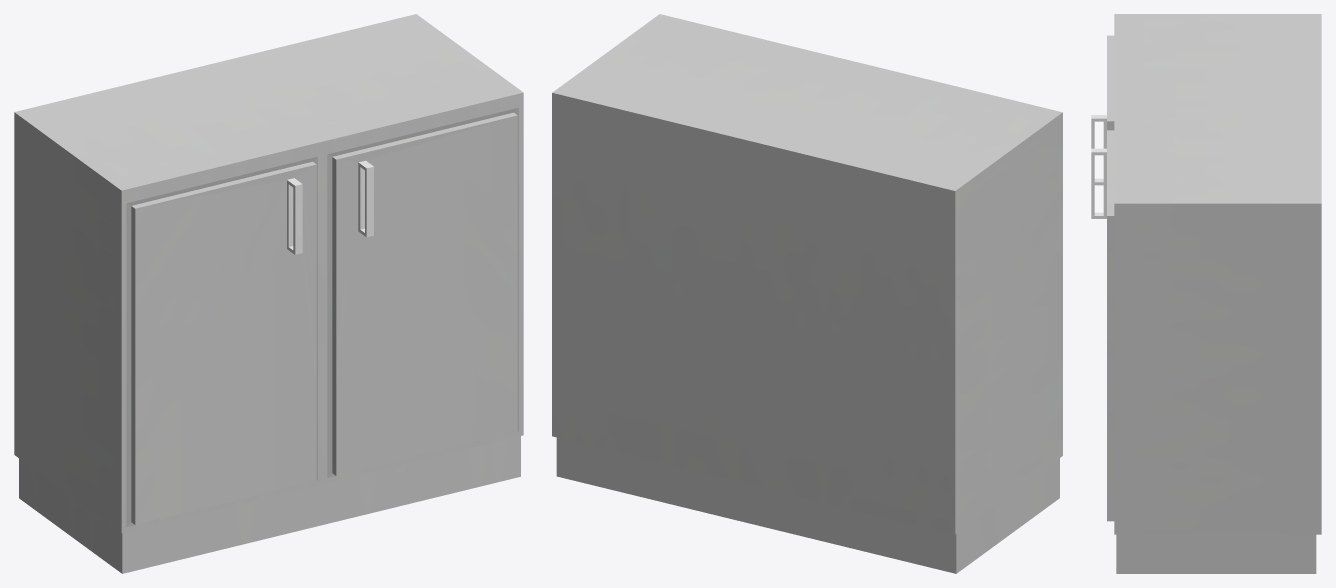
The model's file is cupboard_bottom.glb.
The picture shows the model from 3 angles, left to right: view 1: azimuth 30°, elevation 25°; view 2: azimuth 150°, elevation 25°; view 3: azimuth 270°, elevation 25°; orthographic projection. The views are drawn at different scales.
Visible parts, largest first — view 1: cupboard_bottom; view 2: cupboard_bottom; view 3: cupboard_bottom.
Part boxes in pixels (x1,y1,x2,y2): cupboard_bottom: [14, 14, 523, 573]; cupboard_bottom: [552, 14, 1062, 573]; cupboard_bottom: [1091, 14, 1321, 573].
Size of the model in its own units: 0.7538 by 0.6887 by 0.3875.
Materials: 1 (1 with a texture image).
